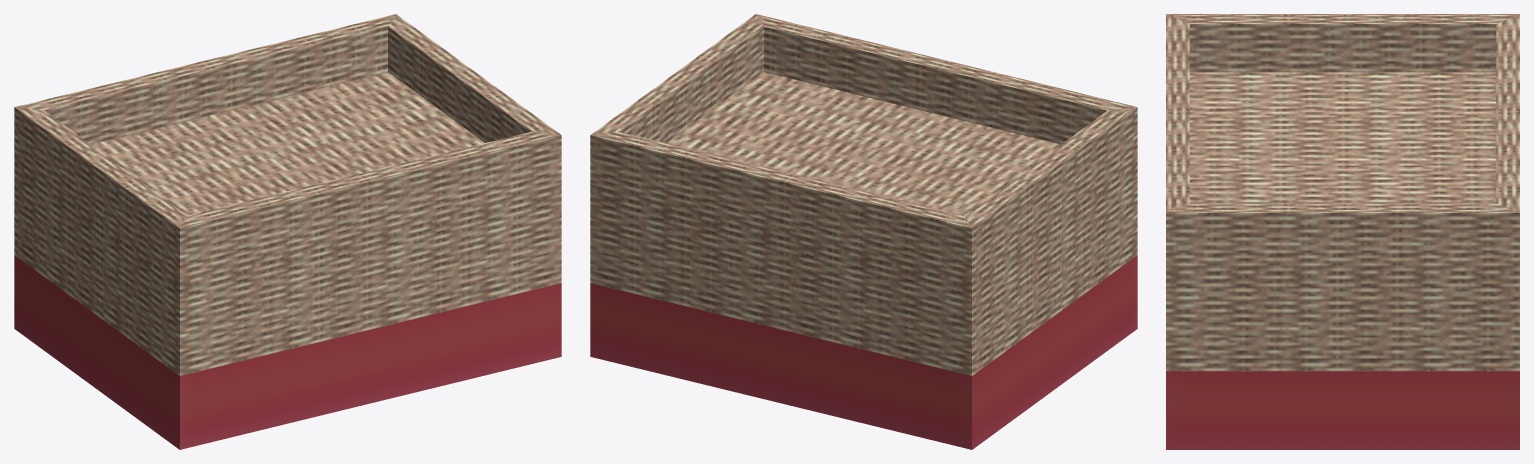
Rendered from giftgoods111_01.fbx.
The picture shows the model from 3 angles, left to right: view 1: azimuth 30°, elevation 25°; view 2: azimuth 150°, elevation 25°; view 3: azimuth 270°, elevation 25°; orthographic projection. The views are drawn at different scales.
Visible parts, largest first — view 1: giftgoods111_01; view 2: giftgoods111_01; view 3: giftgoods111_01.
Part boxes in pixels (x1=…): giftgoods111_01: x1=14, y1=14, x2=561, y2=449; giftgoods111_01: x1=590, y1=14, x2=1137, y2=449; giftgoods111_01: x1=1166, y1=14, x2=1519, y2=449.
Bounding box in the file's own units: 1.13 × 0.6253 × 0.8462.
